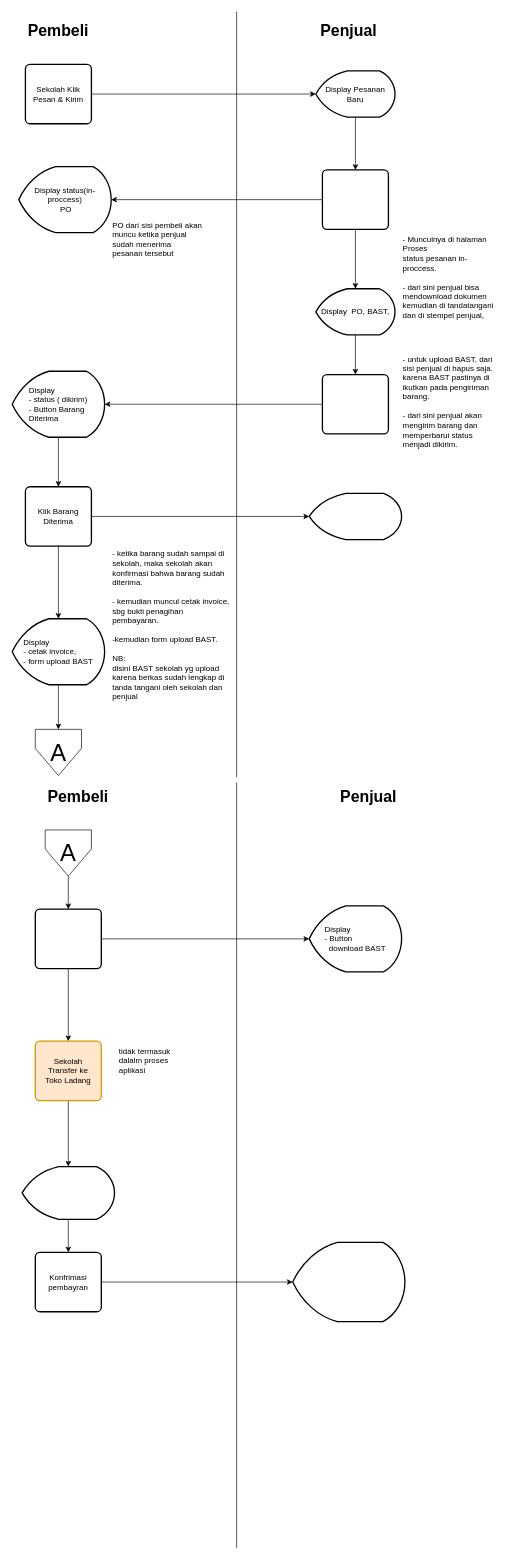
This 512x1560 diagram has some shape labels left out. Each missing label, with the box of its shape:
Display - Form Konfirmasi pembayaran: (21, 1166, 115, 1220)
Display status(diterima): (308, 492, 402, 540)
Display: - Status (dibayar) - Button Penarikan Dana Ke Toko Ladang: (292, 1241, 405, 1322)
klik Kirim BARANG: (321, 374, 389, 434)
Penjual Menerima Pesanan: (321, 169, 389, 230)
upload BAST: (34, 908, 102, 969)
